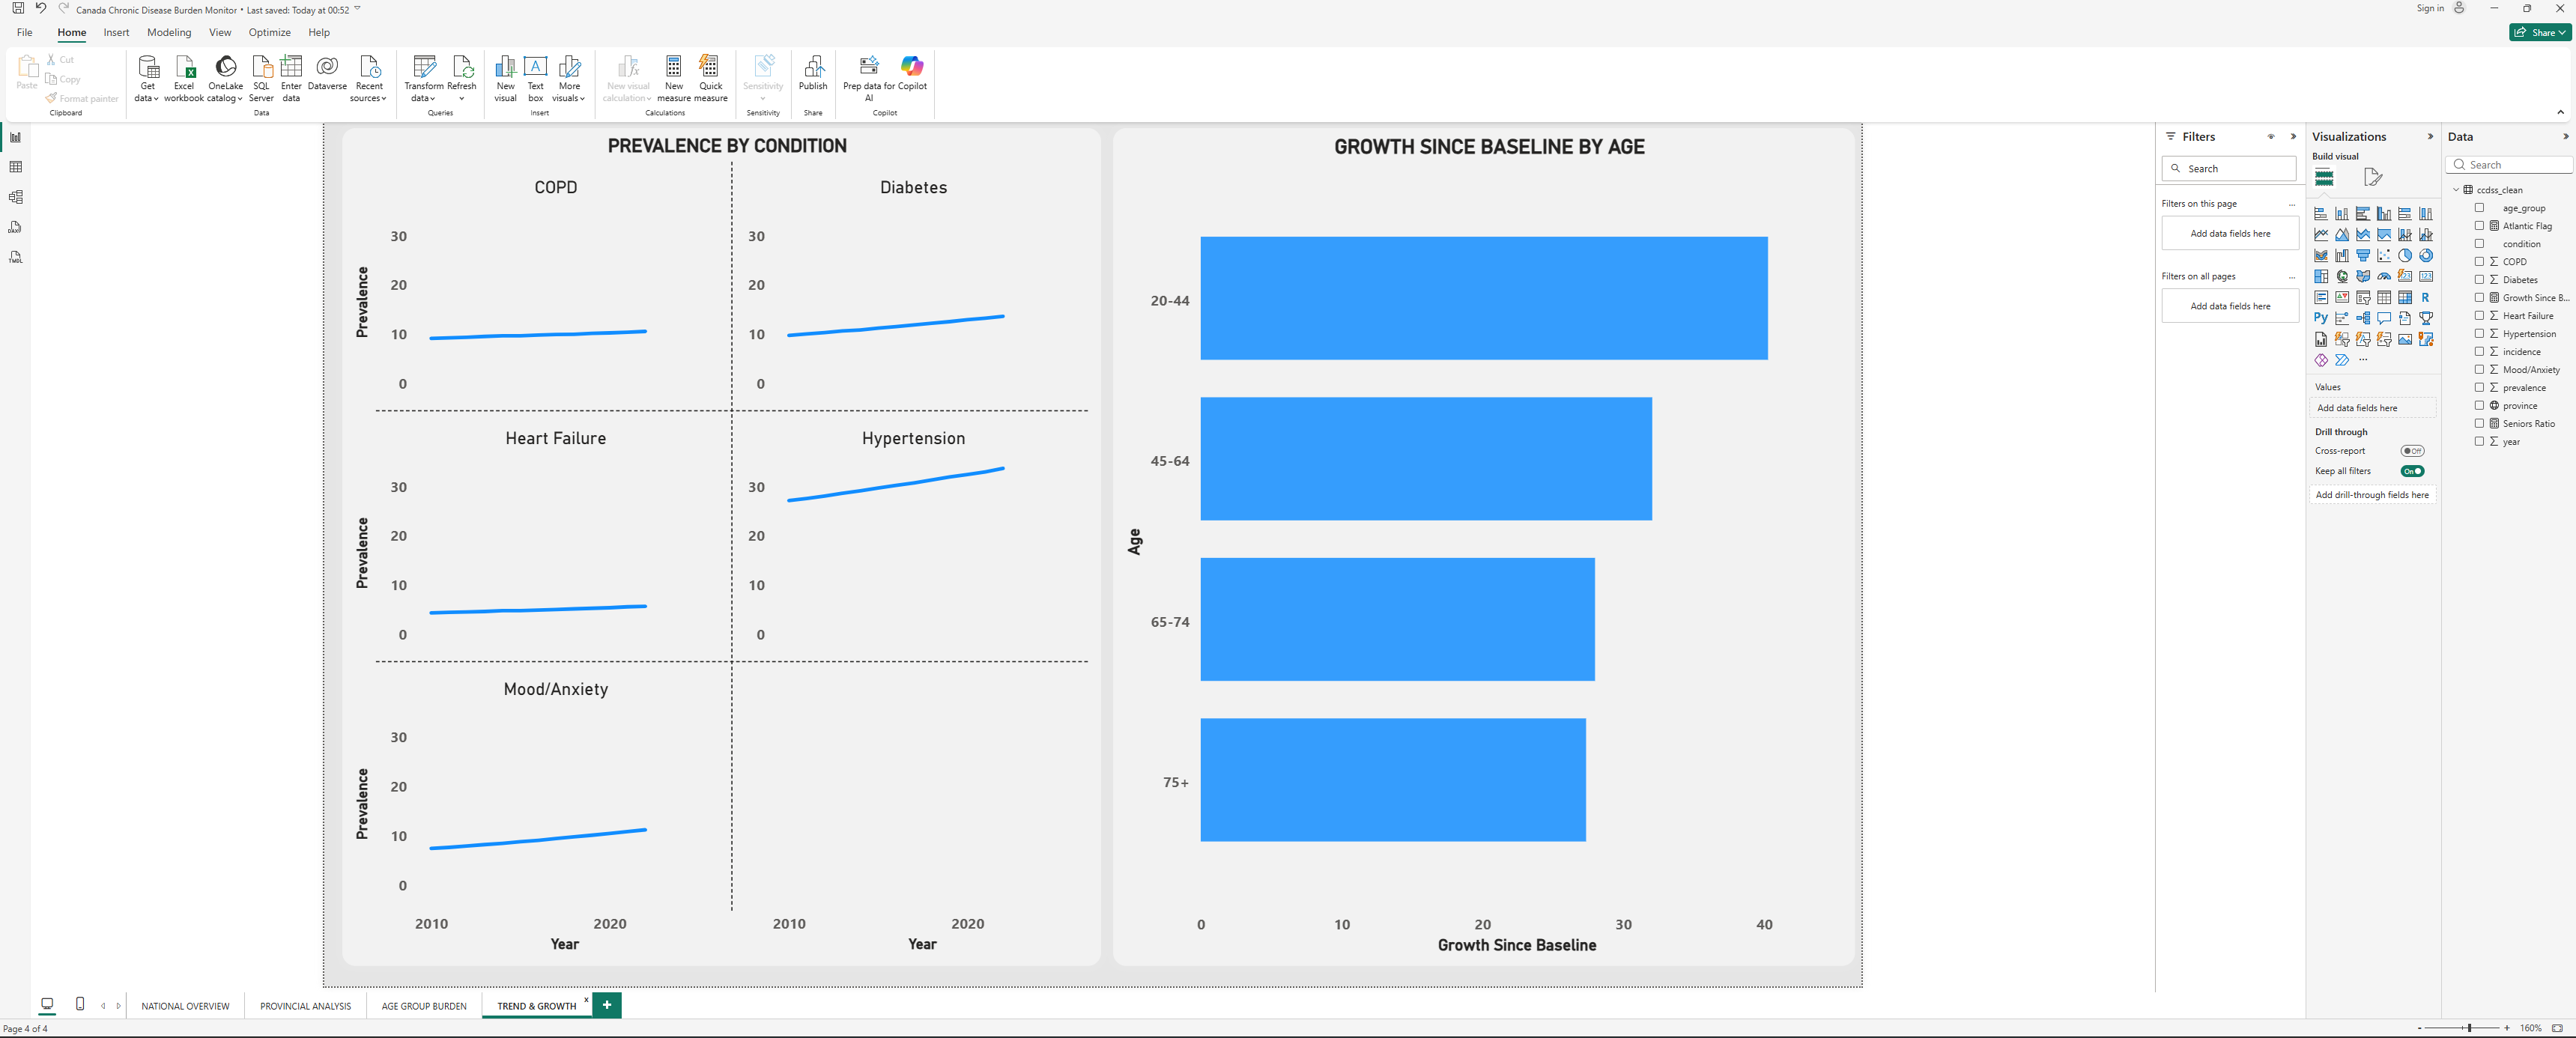

This screenshot's page, from the dashboard's own definition file:
{"tool":"powerbi","page":{"name":"TREND & GROWTH","canvas":[1280,720],"ordinal":3},"visuals":[{"type":"lineChart","title":"PREVALENCE BY CONDITION","fields":{"Category":["ccdss_clean.year"],"Y":["Avg(ccdss_clean.prevalence)"],"Rows":["ccdss_clean.condition"]},"box":[10,0,642,708.3],"z":0},{"type":"clusteredBarChart","title":"GROWTH SINCE BASELINE BY AGE","fields":{"Category":["ccdss_clean.age_group"],"Y":["ccdss_clean.Growth Since Baseline"]},"box":[652.1,0,627.9,708.3],"z":1000}]}

Visuals, with their boxes on the page's 1280x720 design canvas (x1, y1, x2, y2). These are canvas units, not pixel positions in the 2576x1038 screenshot, which may show the page scaled, cropped or inside an application window:
"PREVALENCE BY CONDITION" lineChart: select_region(10, 0, 652, 708)
"GROWTH SINCE BASELINE BY AGE" clusteredBarChart: select_region(652, 0, 1280, 708)
